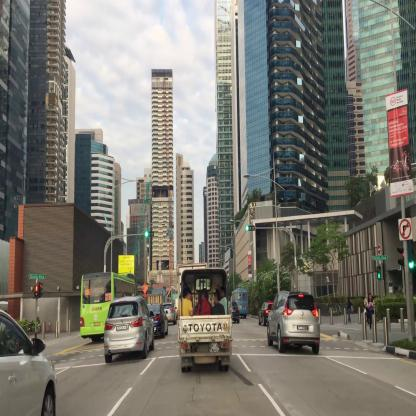green_traffic_light: (144, 227, 155, 239), (246, 221, 255, 230)
